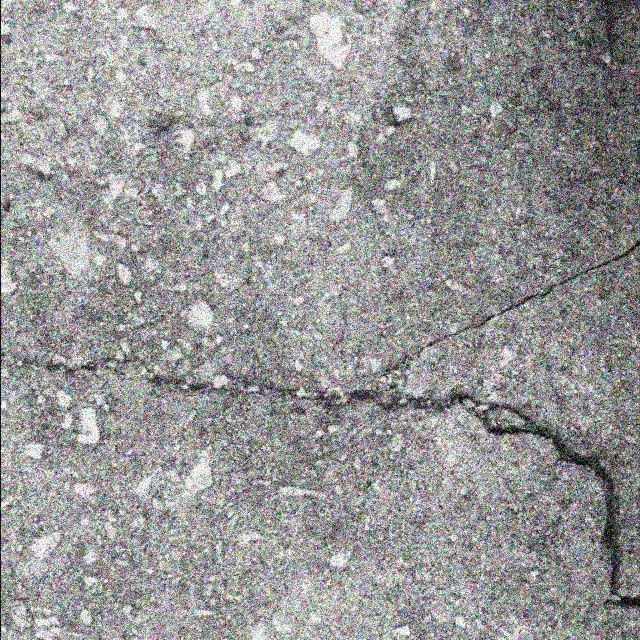SurfaceCrack: (0, 182, 639, 632)
